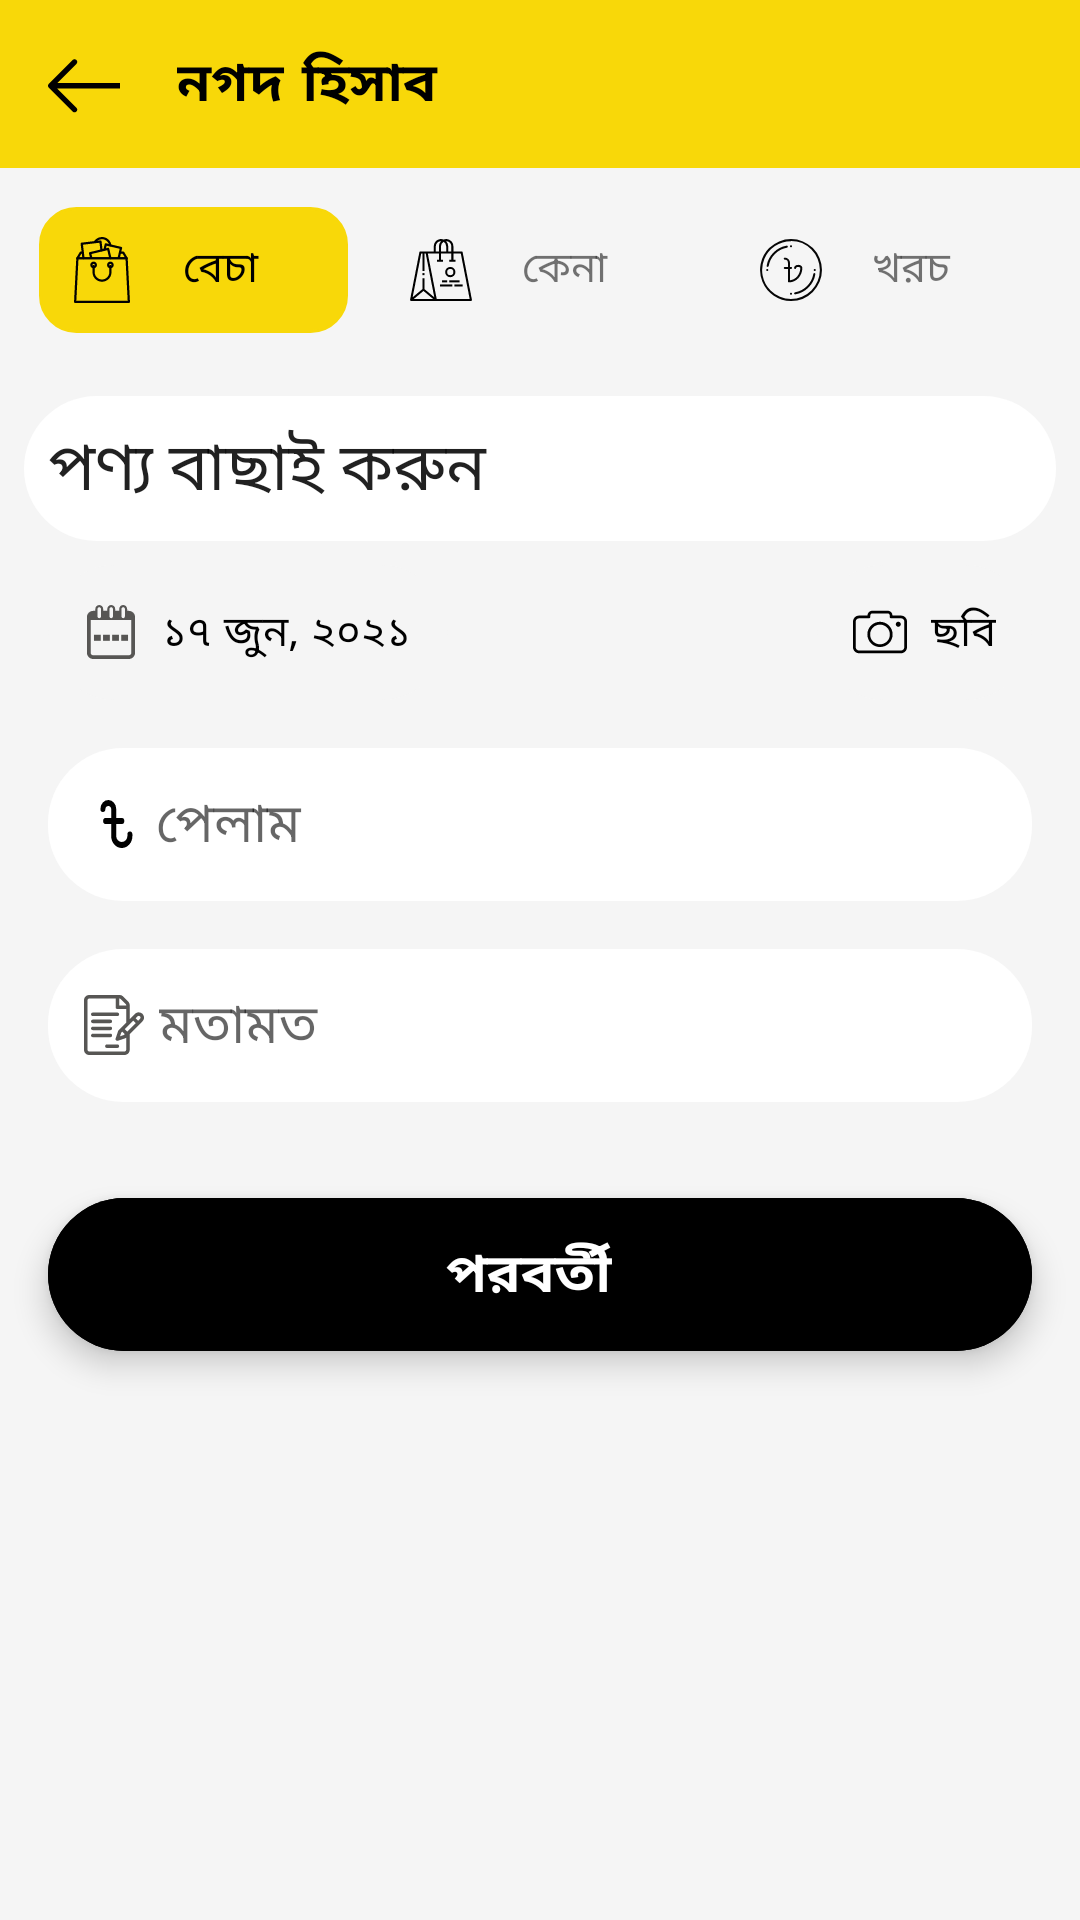

Icons on this 1080x1920 Android screen, each with its box as box(x1, y1, x2, y2):
arrow: box(48, 59, 120, 113)
